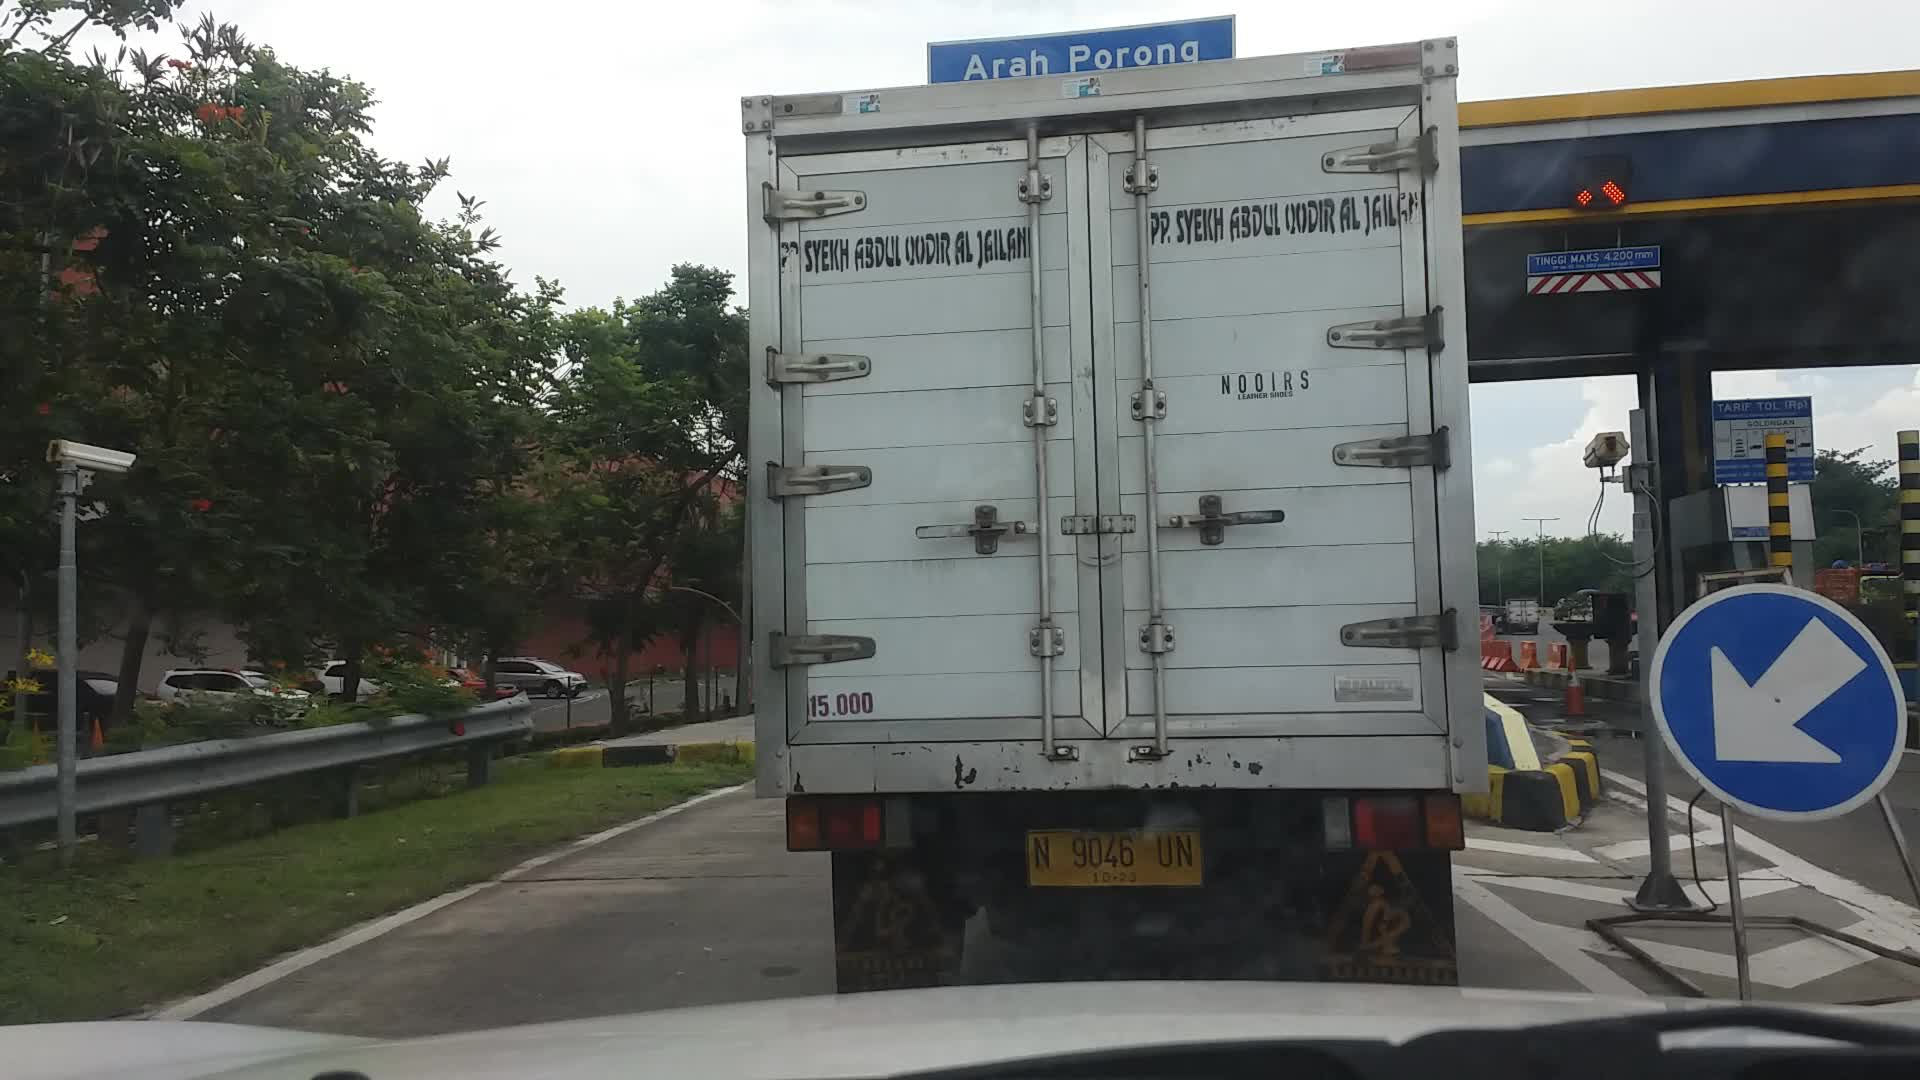plate_positive: (1025, 828, 1201, 887)
